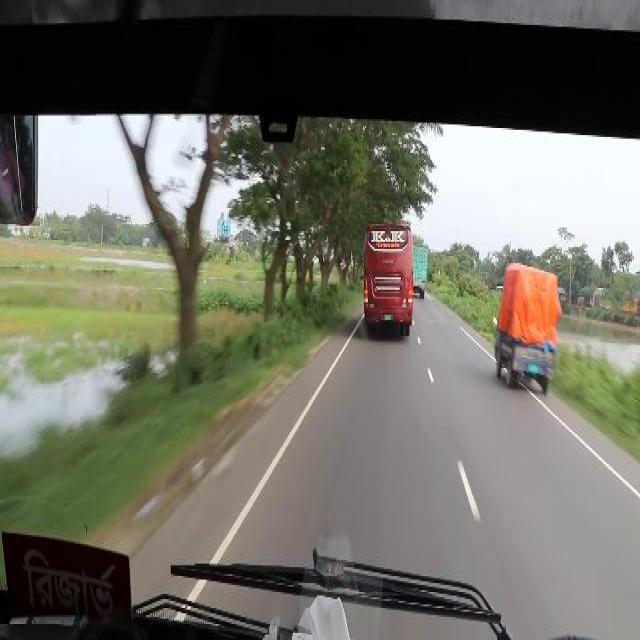11: (492, 255, 558, 389), (413, 242, 427, 298)
Truck: (362, 222, 412, 336)
